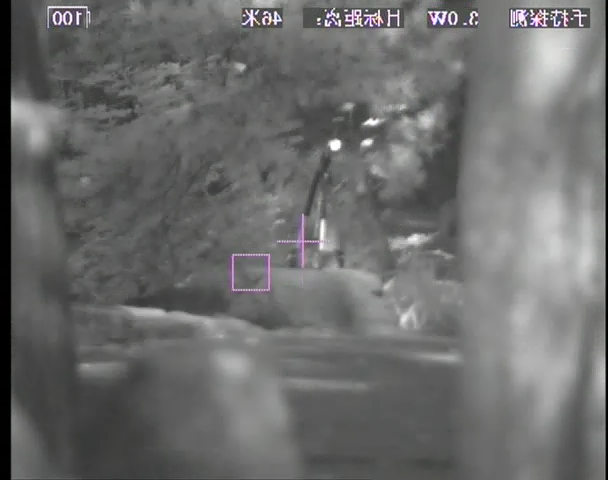my: (327, 137, 342, 152)
